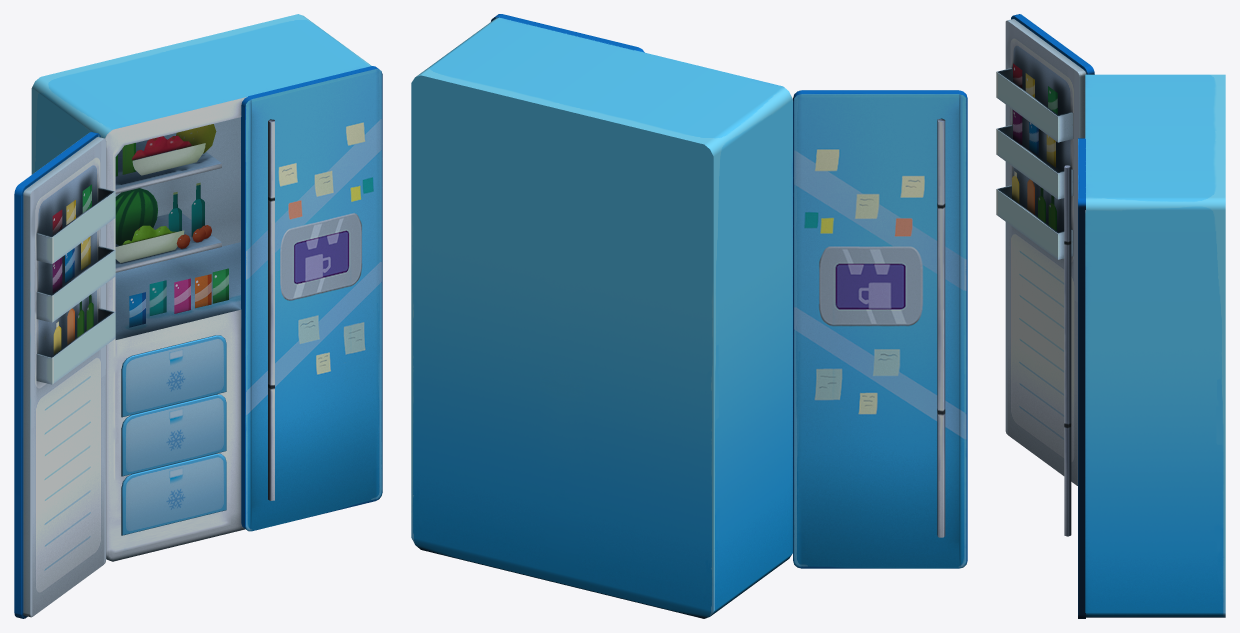
File: Refrigerator.fbx
The picture shows the model from 3 angles, left to right: view 1: azimuth 30°, elevation 25°; view 2: azimuth 150°, elevation 25°; view 3: azimuth 270°, elevation 25°; orthographic projection. The views are drawn at different scales.
Parts seen in each view (by area): view 1: 062; view 2: 062; view 3: 062.
Boxes of the visible parts, left/top/right/bottom form: 062: left=14, top=14, right=382, bottom=618; 062: left=411, top=14, right=967, bottom=618; 062: left=996, top=14, right=1225, bottom=618.
Size of the model in its own units: 51.7 by 53.41 by 26.4.
1 material, 1 textured.
